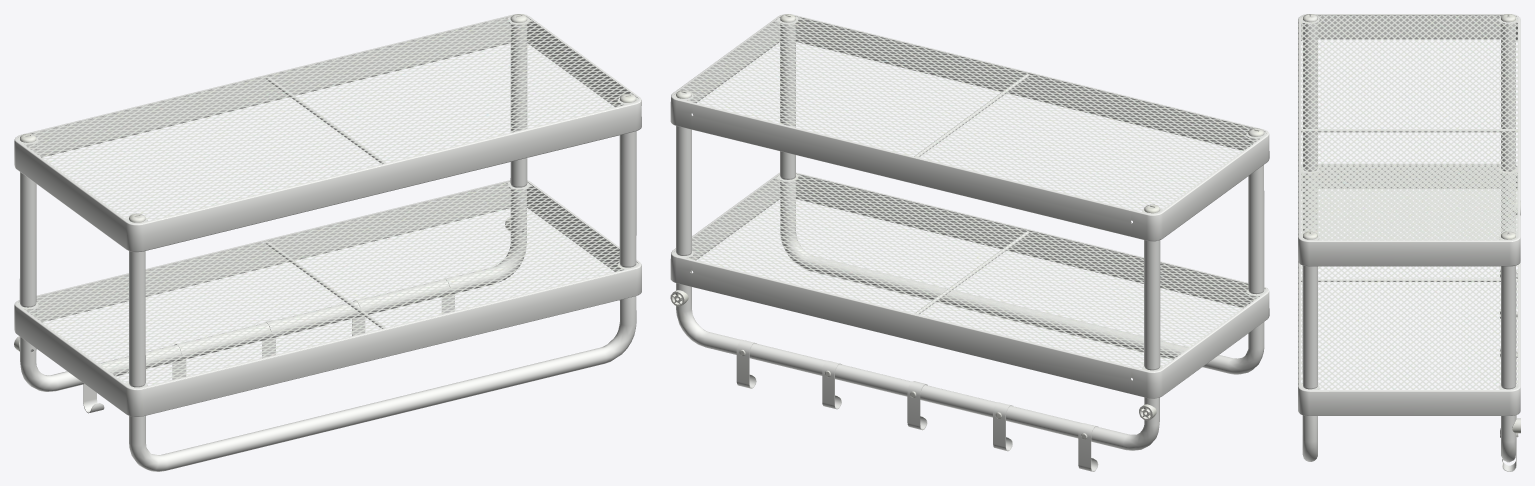
The picture shows the model from 3 angles, left to right: view 1: azimuth 30°, elevation 25°; view 2: azimuth 150°, elevation 25°; view 3: azimuth 270°, elevation 25°; orthographic projection. The views are drawn at different scales.
Visible parts, largest first — view 1: 10530990-MACKAPÃƒâ€žR001; view 2: 10530990-MACKAPÃƒâ€žR001; view 3: 10530990-MACKAPÃƒâ€žR001.
Part boxes in pixels (x1,y1,x2,y2): 10530990-MACKAPÃƒâ€žR001: (14,14,641,471); 10530990-MACKAPÃƒâ€žR001: (670,14,1269,471); 10530990-MACKAPÃƒâ€žR001: (1298,14,1520,471).
Size of the model in its own units: 0.775 by 0.4203 by 0.3203.
2 materials, 2 textured.
